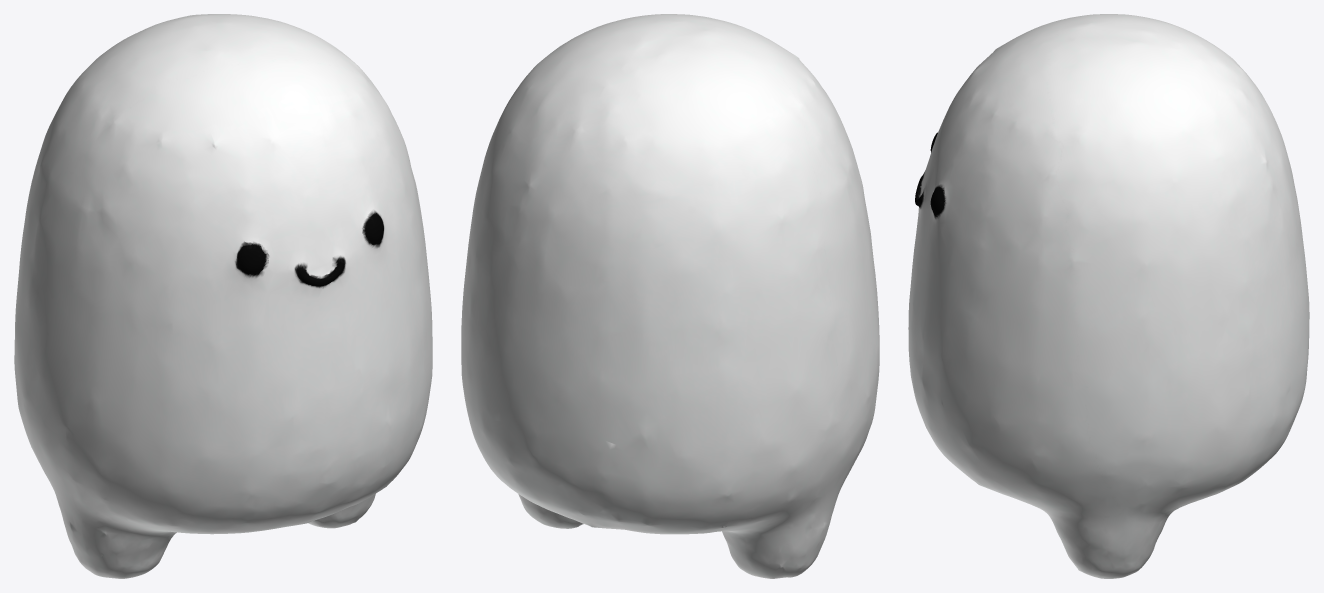
Rendered from player_blob.glb.
3 views of the same model, side by side, from view 1: azimuth 30°, elevation 25°; view 2: azimuth 150°, elevation 25°; view 3: azimuth 270°, elevation 25° (orthographic). The views are drawn at different scales.
Parts seen in each view (by area): view 1: mesh_node; view 2: mesh_node; view 3: mesh_node.
Boxes of the visible parts, x1,y1,x2,y2 form: mesh_node: (14, 14, 432, 578); mesh_node: (461, 14, 879, 578); mesh_node: (908, 14, 1309, 578).
Size of the model in its own units: 1.4 by 1.88 by 1.4.
1 material, 1 textured.
